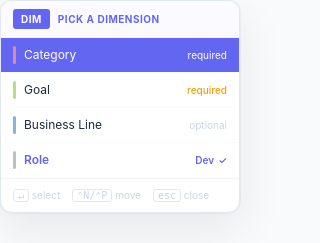
Scenario: DimensionPopover › cross-filters goals to selected role's goals
// Select Goal dimension (index 1)
Click the element with test id "dim-item" showing "Goal required" at (120, 90), box left=1, top=73, right=239, bottom=108
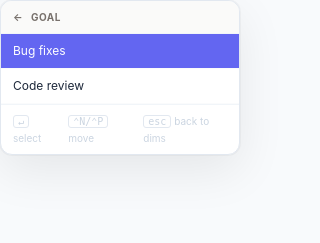
Expected: the number of elements with test id "val-item" is 2, left=1, top=34, right=239, bottom=69; left=1, top=69, right=239, bottom=104
Expected: the element with test id "val-item" reads "Bug fixes", left=13, top=43, right=66, bottom=58
Expected: the element with test id "val-item" reads "Code review", left=13, top=78, right=84, bottom=93
